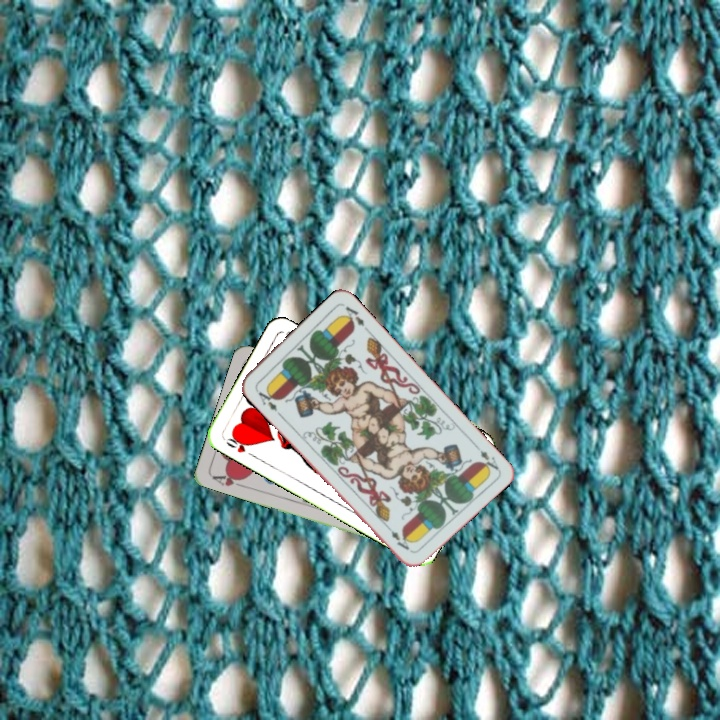EA: (470, 440, 501, 474), (251, 384, 280, 414)
HA: (208, 469, 248, 491)
HO: (222, 431, 257, 460)
